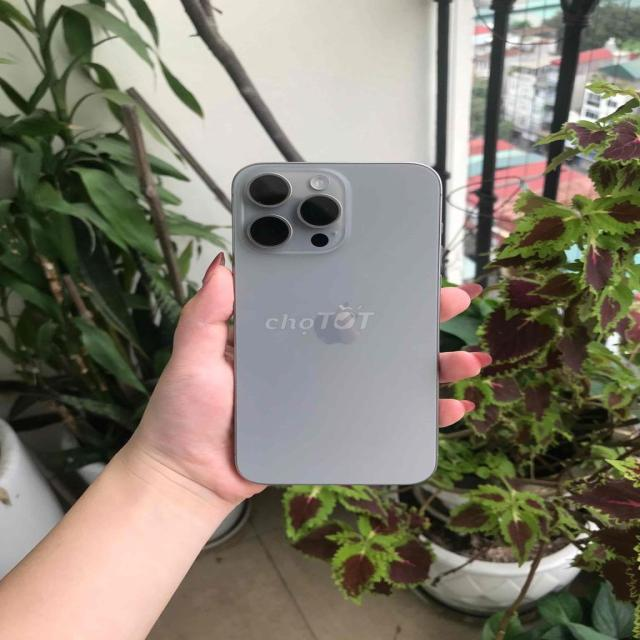gen_15: (195, 146, 463, 503)
